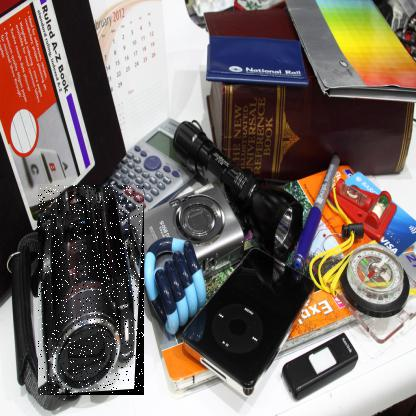Camera: (39, 186, 146, 397)
